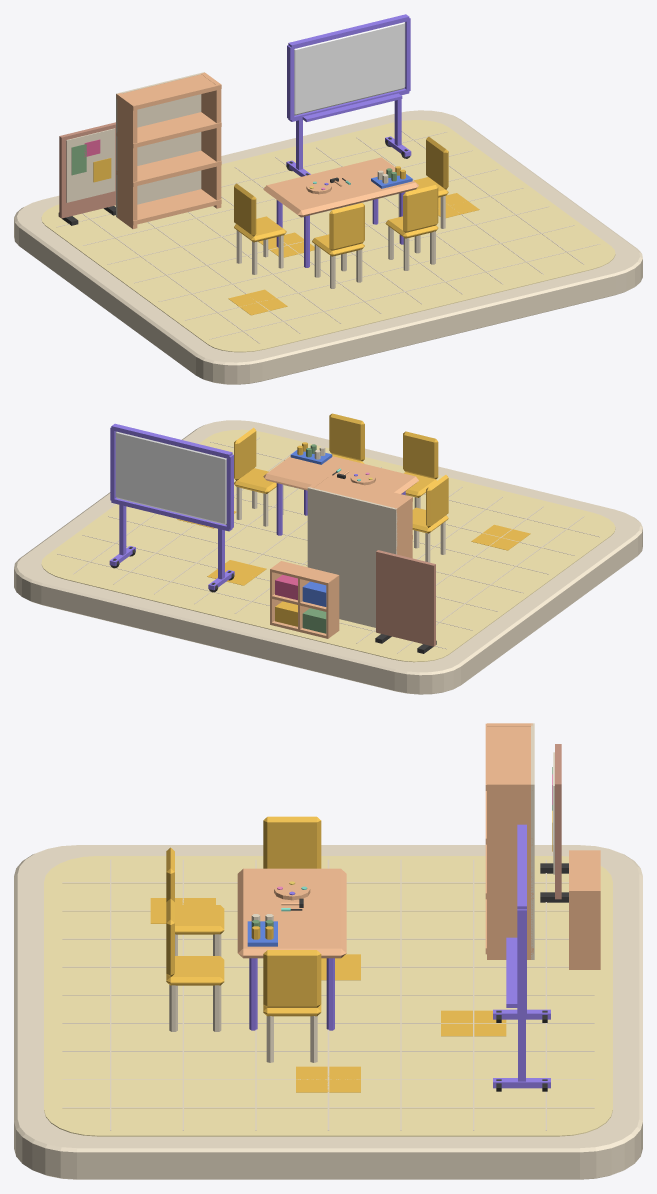
3 views of the same model, one above another, from view 1: azimuth 30°, elevation 25°; view 2: azimuth 150°, elevation 25°; view 3: azimuth 270°, elevation 25° (orthographic). The views are drawn at different scales.
Parts seen in each view (by area): view 1: COM-02 Floor Surface, COM-01 Rounded Base Direct, Writing surface, Rounded table top, Back, Side, Canvas, Side.001, Panel, Shelf.003, Shelf.001, Shelf.002 (+13 smaller); view 2: COM-02 Floor Surface, COM-01 Rounded Base Direct, Back, Writing surface, Panel, Rounded table top, Backrest.002, Backrest.003, Shelf.003, Frame rail.001, Backrest, Backrest.001 (+15 smaller); view 3: COM-02 Floor Surface, COM-01 Rounded Base Direct, Rounded table top, Side.001, Backrest.001, Backrest, Shelf.003, Cubbies divider.002, Geometric color tile.003, Geometric color tile.002, Seat.003, Seat.002 (+15 smaller).
Part boxes in pixels (x1,y1,x2,y2): COM-02 Floor Surface: (41,120,615,352); COM-01 Rounded Base Direct: (14,110,642,384); Writing surface: (294,22,405,115); Rounded table top: (263,157,418,217); Back: (116,72,204,217); Side: (117,93,137,228); Canvas: (66,128,115,202); Side.001: (201,72,221,208); Panel: (59,122,115,218); Shelf.003: (116,74,221,110); Shelf.001: (116,150,221,186); Shelf.002: (116,112,221,148); COM-02 Floor Surface: (41,429,615,662); COM-01 Rounded Base Direct: (14,420,642,694); Back: (307,487,397,627); Writing surface: (115,431,226,524); Panel: (376,550,435,646); Rounded table top: (263,456,418,493); Backrest.002: (403,431,438,479); Backrest.003: (329,413,364,461); Shelf.003: (314,475,412,512); Frame rail.001: (111,423,232,458); Backrest: (426,475,448,527); Backrest.001: (234,427,256,480); COM-02 Floor Surface: (44,856,612,1136); COM-01 Rounded Base Direct: (14,845,642,1179); Rounded table top: (237,868,346,958); Side.001: (487,781,532,959); Backrest.001: (263,950,321,1007); Backrest: (263,816,321,868); Shelf.003: (485,723,532,790); Cubbies divider.002: (569,890,600,969); Geometric color tile.003: (296,1066,360,1092); Geometric color tile.002: (441,1010,506,1036); Seat.003: (166,956,224,985); Seat.002: (175,905,224,934).
Bounding box in the file's own units: 6 × 2.04 × 5.2.
Materials: 1 (1 with a texture image).
